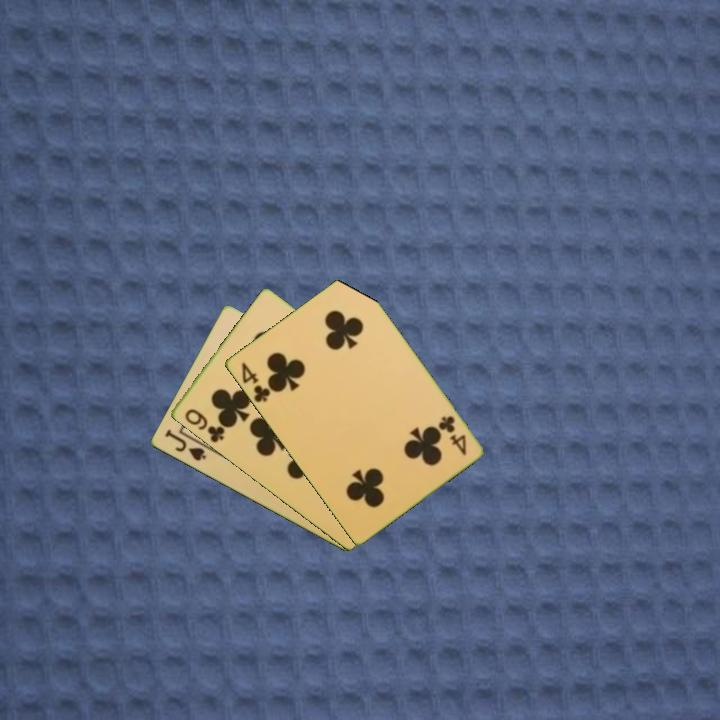4c: (237, 358, 273, 406), (435, 412, 469, 458)
9c: (181, 405, 227, 446)
Js: (161, 426, 209, 464)
